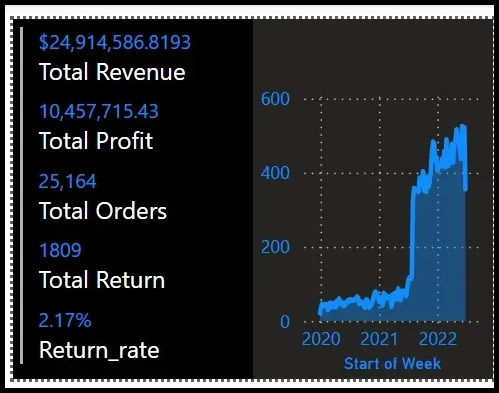

The dashboard page shown, as its layout file describes it:
{"tool":"powerbi","page":{"name":"Tooltip","canvas":[320,240],"ordinal":7},"visuals":[{"type":"multiRowCard","fields":{"Values":["Measure Table.Total Revenue","Measure Table.Total Profit","Measure Table.Total Orders","Measure Table.Total Return","Measure Table.Return_rate"]},"box":[0,0,160,240],"z":1000},{"type":"areaChart","fields":{"Category":["Calendar Lookup.Start of Week"],"Y":["Measure Table.Total Orders"]},"box":[160,0,160,240],"z":1500}]}

Visuals, with their boxes on the page's 320x240 design canvas (x1, y1, x2, y2). These are canvas units, not pixel positions in the 499x393 screenshot, which may show the page scaled, cropped or inside an application window:
multiRowCard - Measure Table.Total Revenue x Measure Table.Total Profit: rect(0, 0, 160, 240)
areaChart - Calendar Lookup.Start of Week x Measure Table.Total Orders: rect(160, 0, 320, 240)
